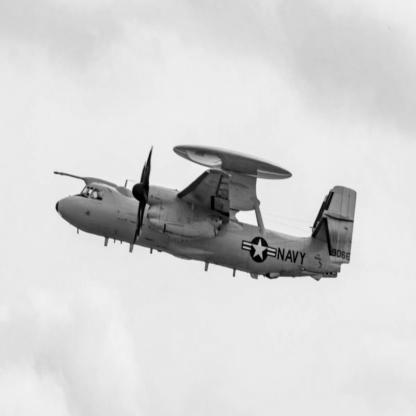E2: (54, 146, 358, 282)
